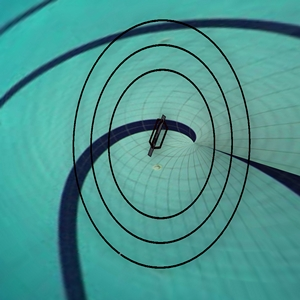circle: (54, 13, 262, 278)
submarine: (139, 107, 184, 165)
